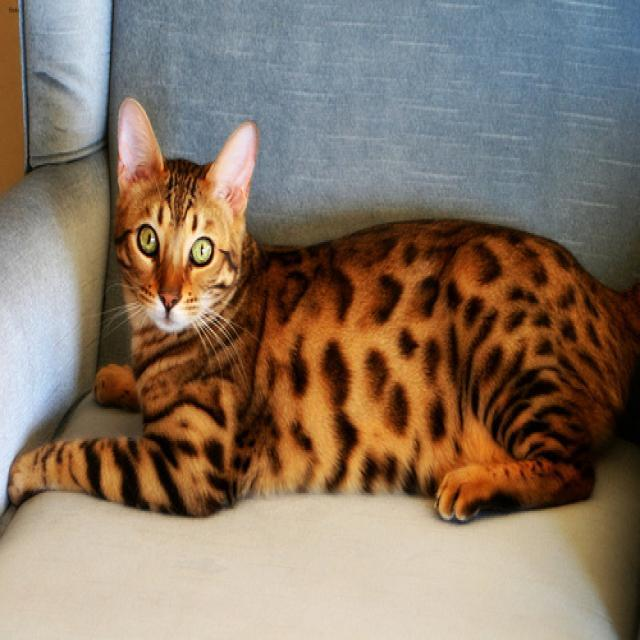Bengal: (111, 101, 252, 343)
